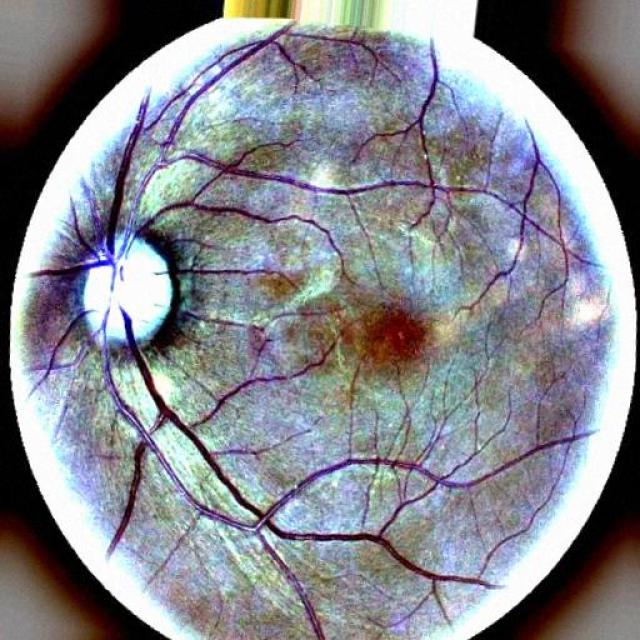Macula: (359, 304, 438, 371)
Nerves: (104, 306, 479, 577), (119, 62, 377, 249), (99, 292, 220, 530), (38, 94, 153, 287), (33, 295, 105, 395)
Optic Disk: (75, 234, 169, 344)
